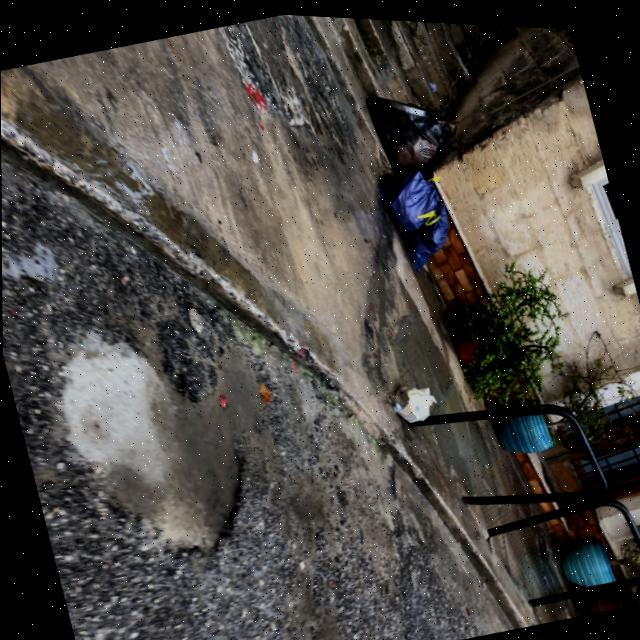Mixed Waste -Black Bag-: (364, 76, 461, 180)
Organic Waste -White Bag-: (388, 375, 441, 427)
Other: (378, 156, 463, 276)
